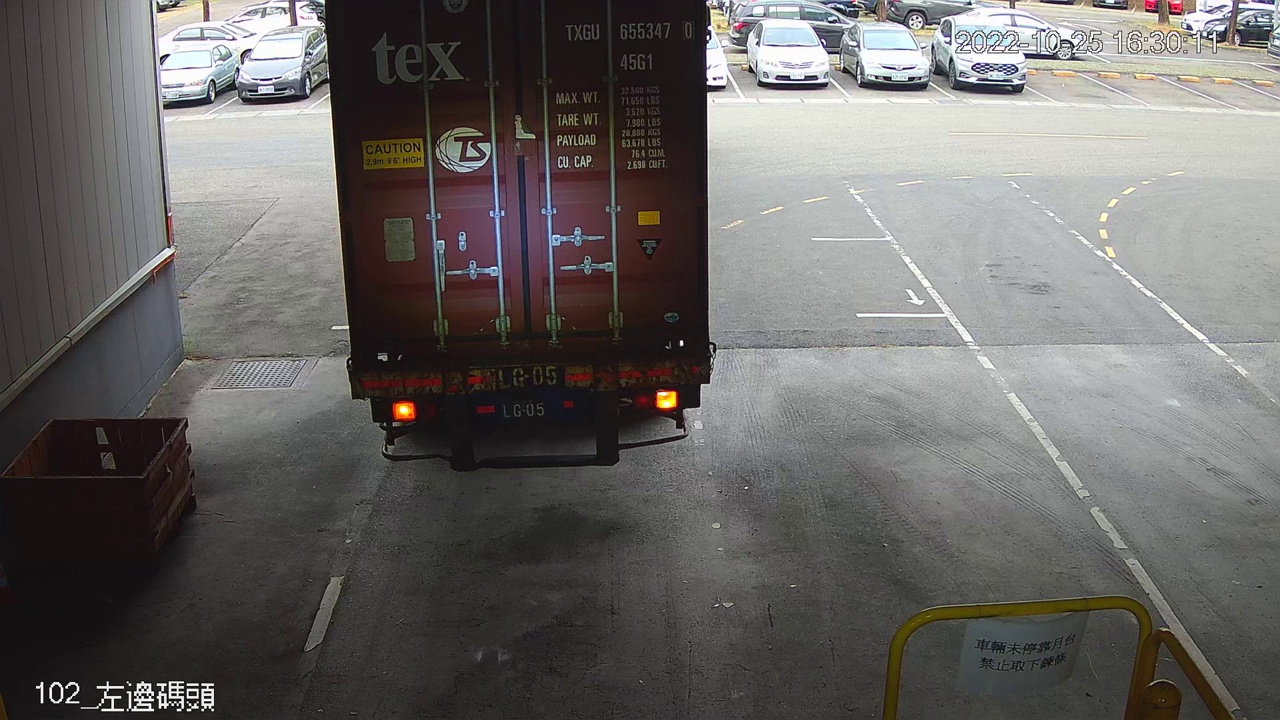container: (555, 13, 700, 76)
